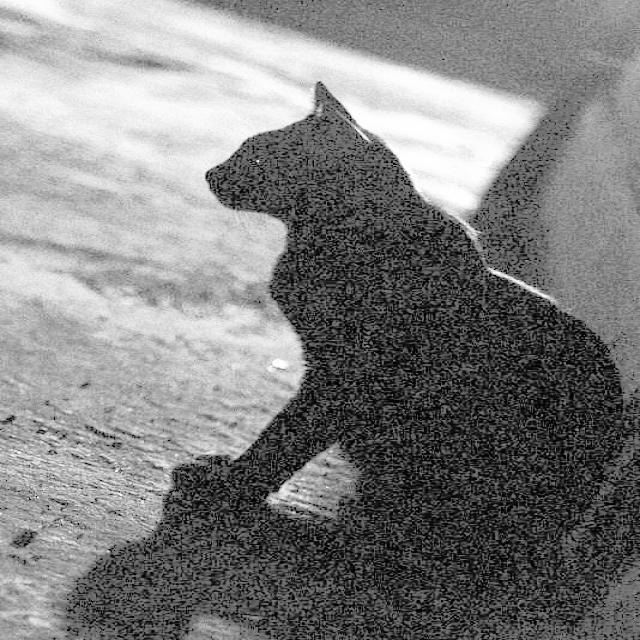Cat: (180, 66, 640, 640)
